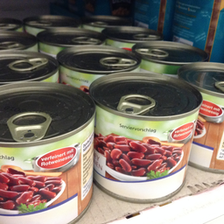beans: (92, 71, 201, 199), (1, 81, 92, 224)
